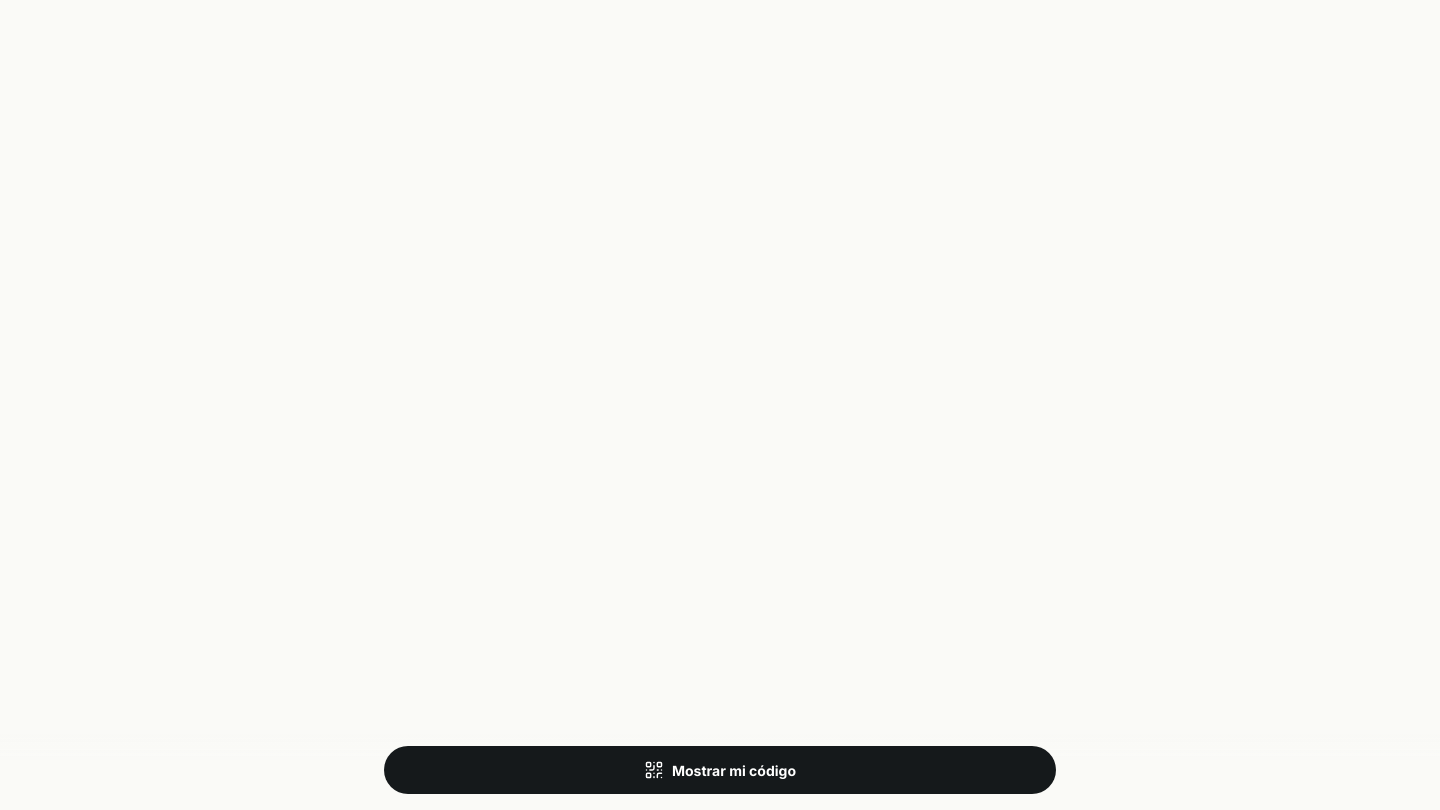
Test: the QR payload › shows a pending state, not a uuid QR, while the credential is on its way
Click the button "Mostrar mi código": coordinates (720, 770) [384,746,1056,794]
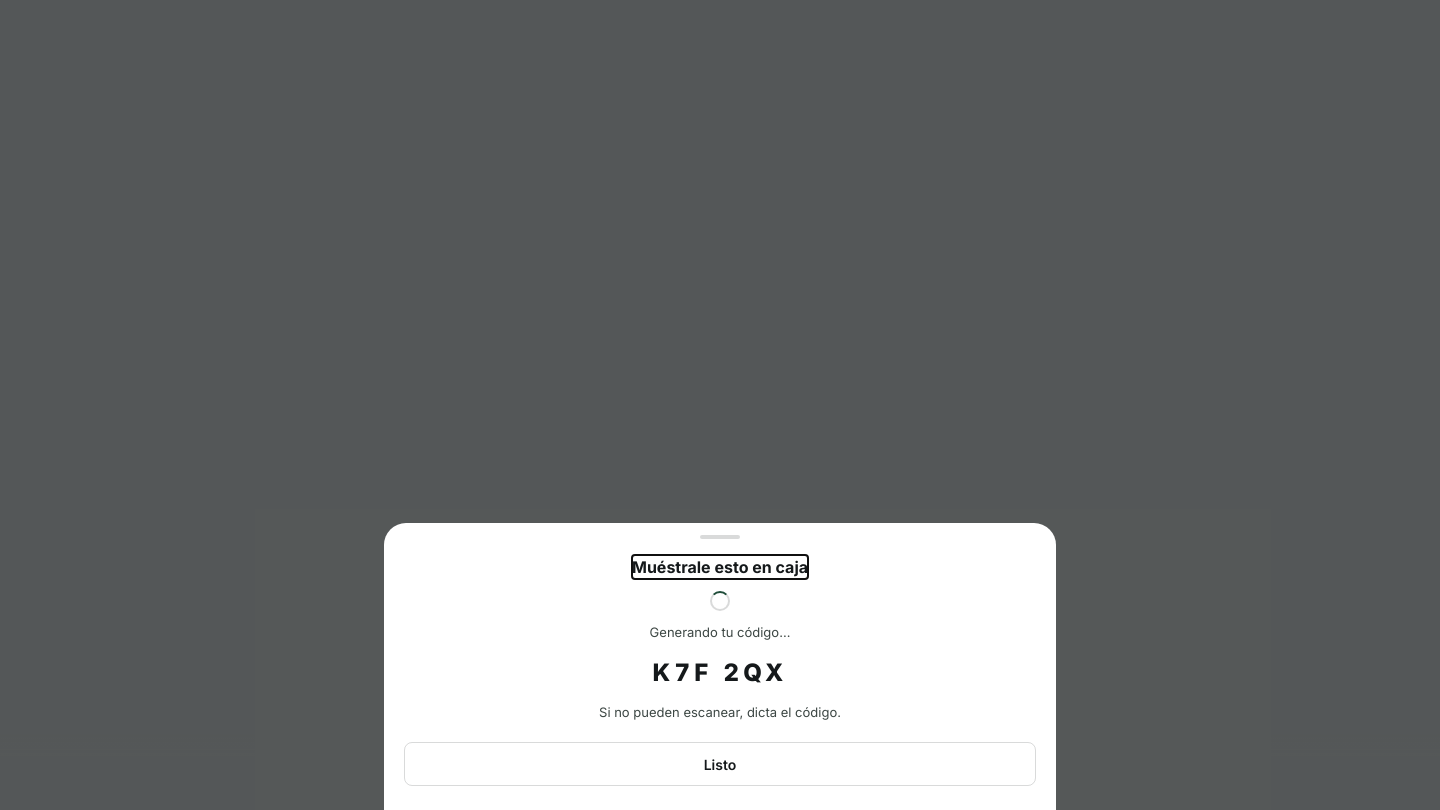
Expected: the text "Generando tu código…" is shown, [650,623,790,642]
